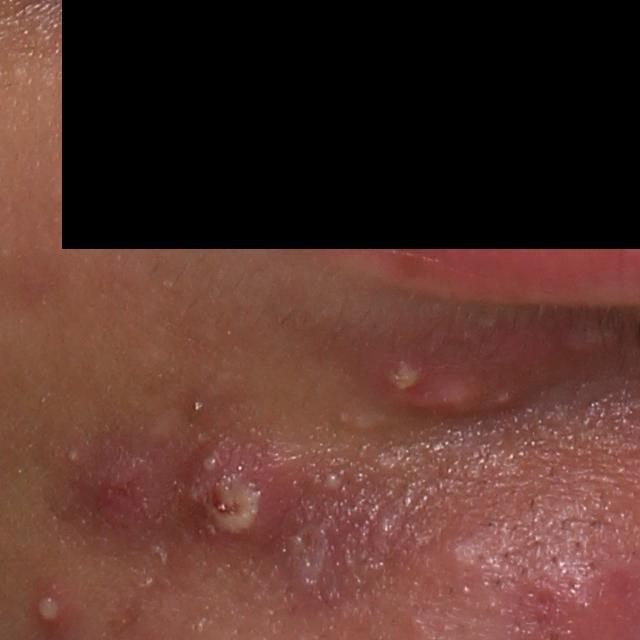comedo: (141, 573, 160, 590)
hypertrophic_scar: (347, 412, 388, 436)
nodule: (174, 433, 319, 558)
papule: (78, 455, 163, 544), (421, 367, 480, 426), (437, 530, 487, 582)
pustule: (285, 519, 342, 593), (386, 355, 424, 398), (316, 468, 348, 498), (490, 386, 514, 408)
